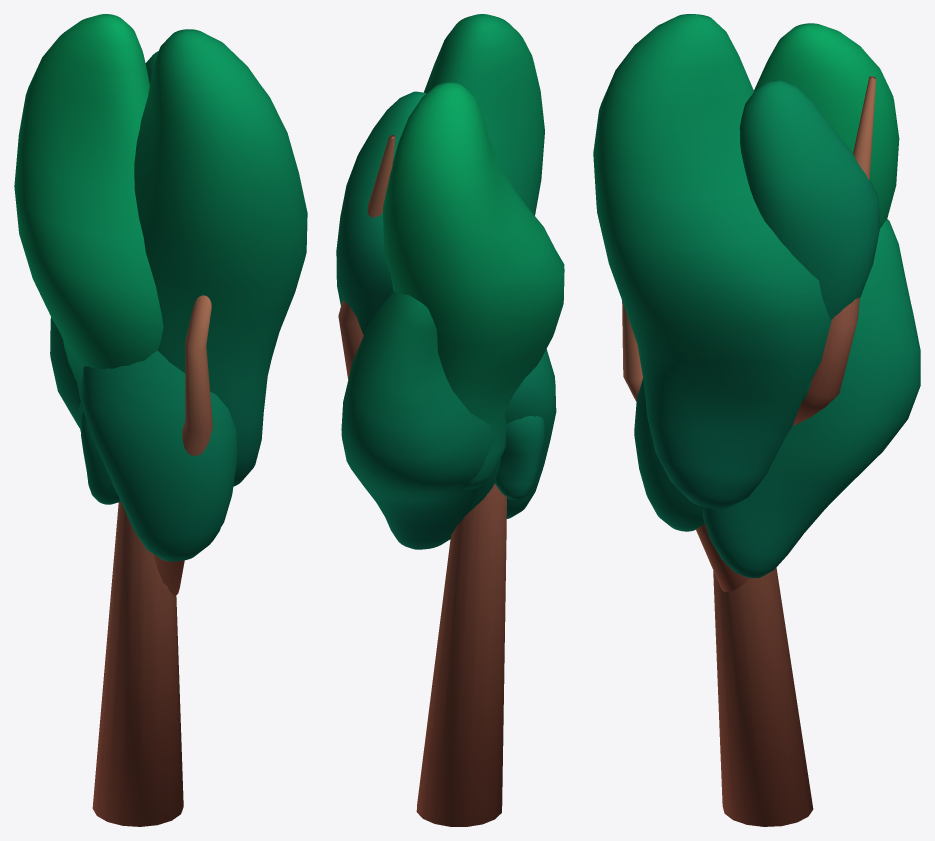
File: Tree02.fbx
3 views of the same model, side by side, from view 1: azimuth 30°, elevation 25°; view 2: azimuth 150°, elevation 25°; view 3: azimuth 270°, elevation 25° (orthographic). The views are drawn at different scales.
Visible parts, largest first — view 1: Tree02; view 2: Tree02; view 3: Tree02.
Part boxes in pixels (bbox=[...]): Tree02: bbox=[14, 14, 307, 826]; Tree02: bbox=[336, 14, 564, 826]; Tree02: bbox=[593, 14, 920, 826].
Size of the model in its own units: 0.8951 by 3.04 by 1.13.
Materials: 1 (1 with a texture image).
